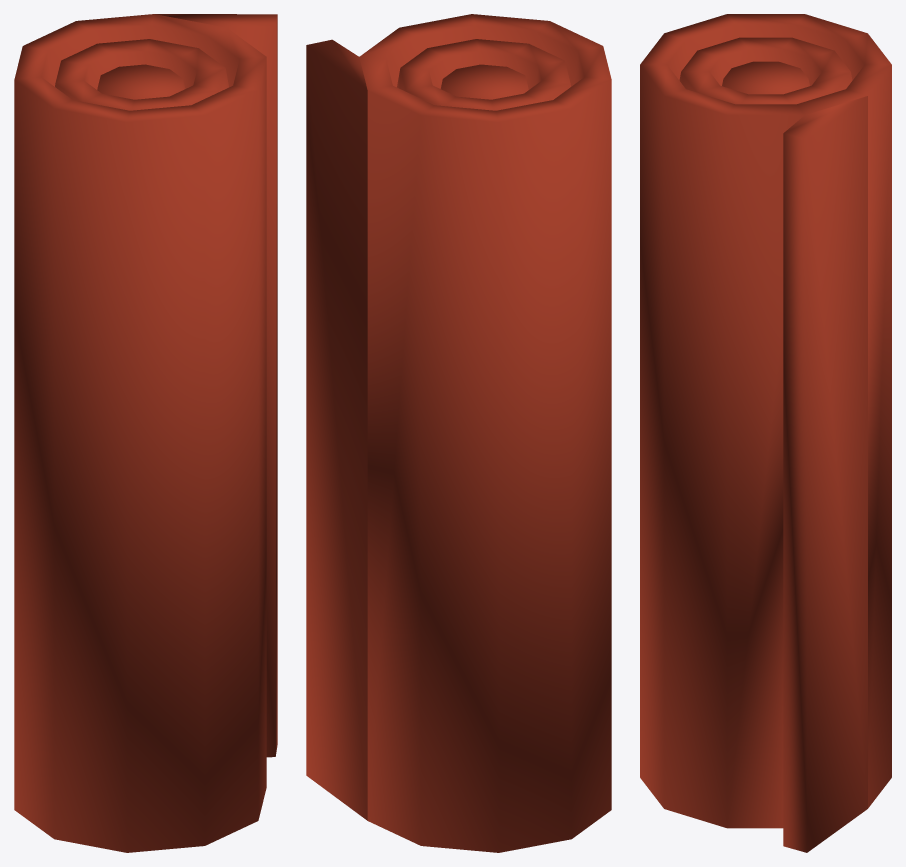
Rendered from rpgpp_ag_carpet_01b.fbx.
The picture shows the model from 3 angles, left to right: view 1: azimuth 30°, elevation 25°; view 2: azimuth 150°, elevation 25°; view 3: azimuth 270°, elevation 25°; orthographic projection. The views are drawn at different scales.
Parts seen in each view (by area): view 1: rpgpp_ag_carpet_01b; view 2: rpgpp_ag_carpet_01b; view 3: rpgpp_ag_carpet_01b.
Part boxes in pixels (bbox=[...]): rpgpp_ag_carpet_01b: bbox=[14, 14, 277, 852]; rpgpp_ag_carpet_01b: bbox=[306, 14, 611, 852]; rpgpp_ag_carpet_01b: bbox=[640, 14, 891, 852].
Bounding box in the file's own units: 0.3785 × 1 × 0.32.
